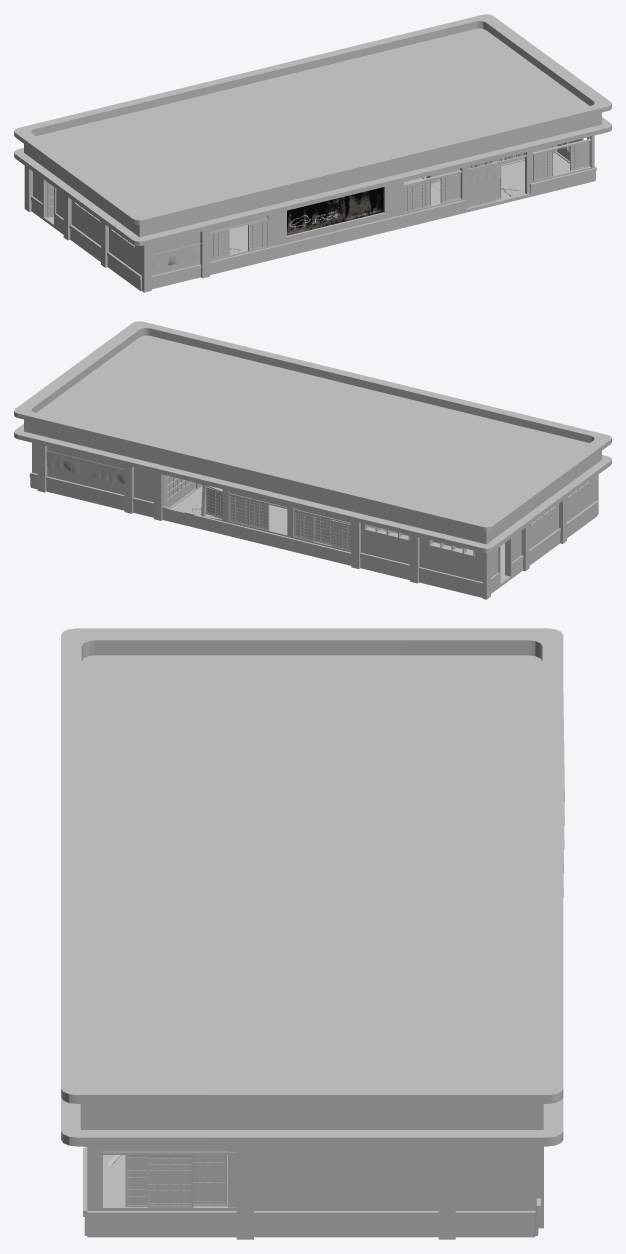
File: Area1Building04.fbx
3 views of the same model, one above another, from view 1: azimuth 30°, elevation 25°; view 2: azimuth 150°, elevation 25°; view 3: azimuth 270°, elevation 25° (orthographic). The views are drawn at different scales.
Parts seen in each view (by area): view 1: Area01Building04Walls, Area01Building04Floors; view 2: Area01Building04Walls, Area01Building04Floors; view 3: Area01Building04Walls, Area01Building04Floors.
Boxes of the visible parts, left/top/right/bottom form: Area01Building04Walls: left=14, top=14, right=611, bottom=292; Area01Building04Floors: left=31, top=153, right=569, bottom=253; Area01Building04Walls: left=14, top=321, right=611, bottom=599; Area01Building04Floors: left=171, top=486, right=523, bottom=593; Area01Building04Walls: left=61, top=628, right=564, bottom=1239; Area01Building04Floors: left=84, top=1146, right=227, bottom=1205.
Size of the model in its own units: 1279 by 197 by 583.
